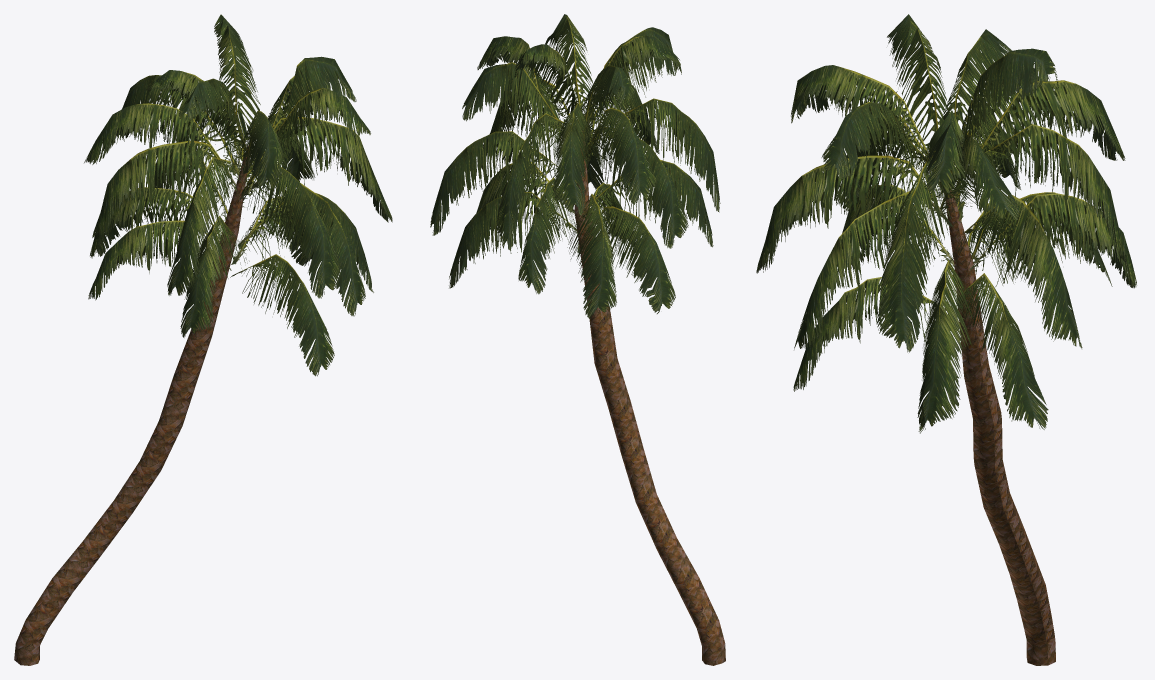
Rendered from Palm.FBX.
The picture shows the model from 3 angles, left to right: view 1: azimuth 30°, elevation 25°; view 2: azimuth 150°, elevation 25°; view 3: azimuth 270°, elevation 25°; orthographic projection. The views are drawn at different scales.
Parts seen in each view (by area): view 1: Palm; view 2: Palm; view 3: Palm.
Boxes of the visible parts, x1,y1,x2,y2 form: Palm: [14, 14, 392, 665]; Palm: [430, 14, 725, 665]; Palm: [756, 14, 1136, 665].
Bounding box in the file's own units: 634 × 1129 × 545.
2 materials, 2 textured.
